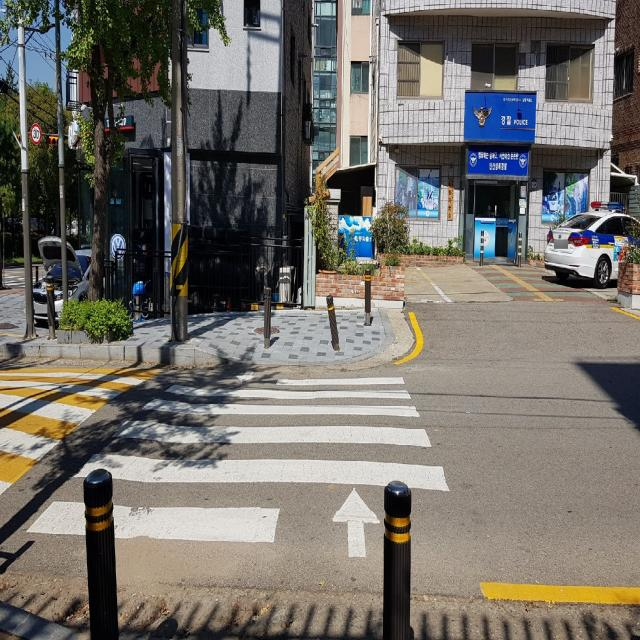횡단보도: (24, 368, 451, 560)
